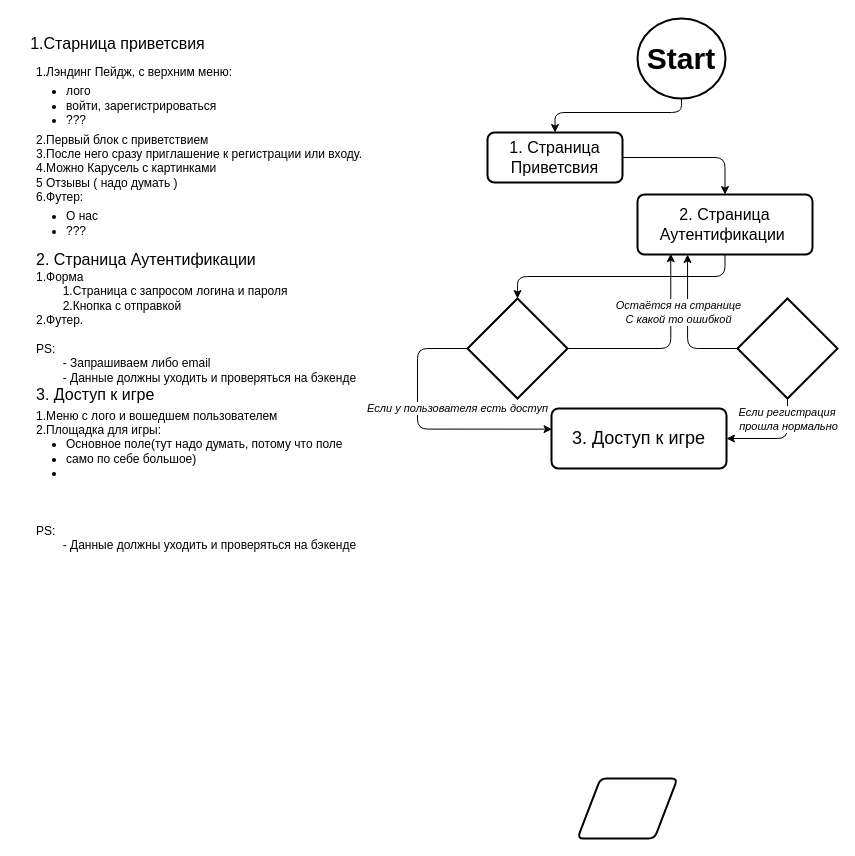
Some shapes in this 855 by 856 pixel diagram are drawn without their labels. Each missing label, with the box of its shape:
Проверка пользовотеля: (466, 297, 568, 399)
Регистрация пользовотеля: (736, 297, 838, 399)
